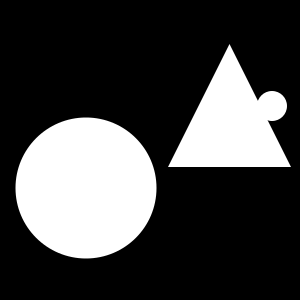rectangle: (16, 118, 157, 258), (257, 91, 287, 121)
triangle: (168, 44, 291, 167)
